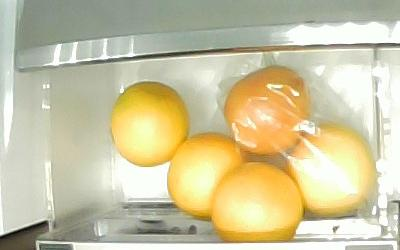grapefruit: (166, 130, 250, 220), (210, 160, 303, 241), (109, 80, 190, 167)
grapefruit_vinyl: (283, 124, 375, 215), (224, 64, 310, 155)
